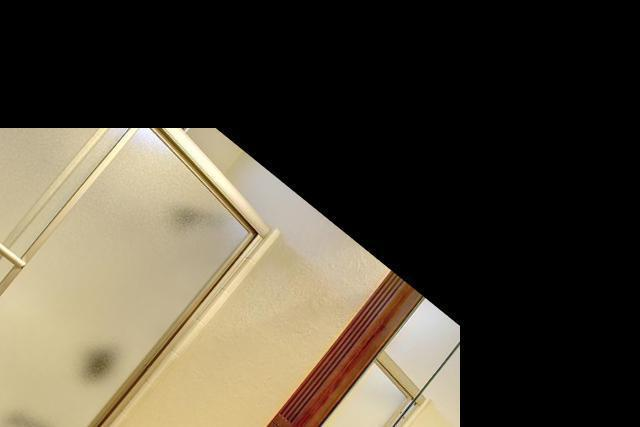Ducha: (0, 5, 277, 427)
Lavamanos: (24, 400, 352, 427)
